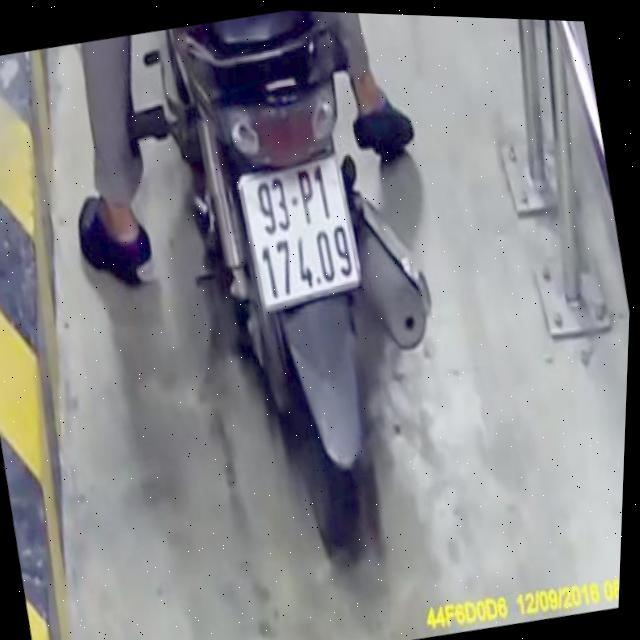motorcycle: (109, 5, 492, 588)
plate: (224, 148, 373, 314)
